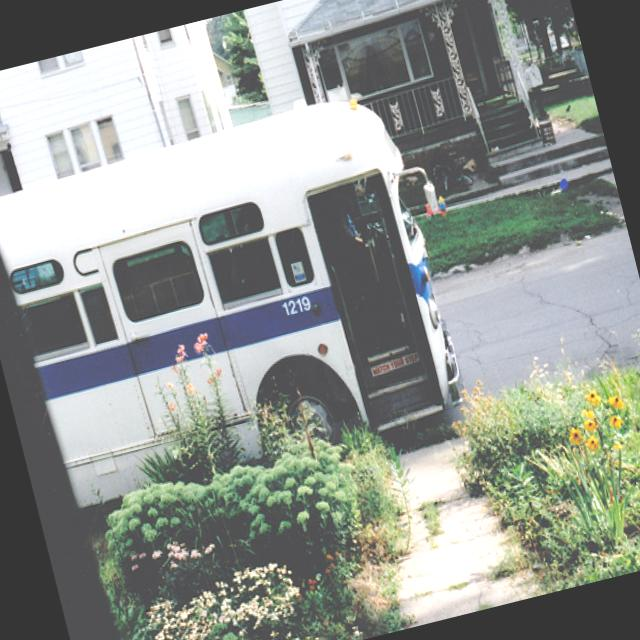Vehicle: (0, 77, 498, 548)
